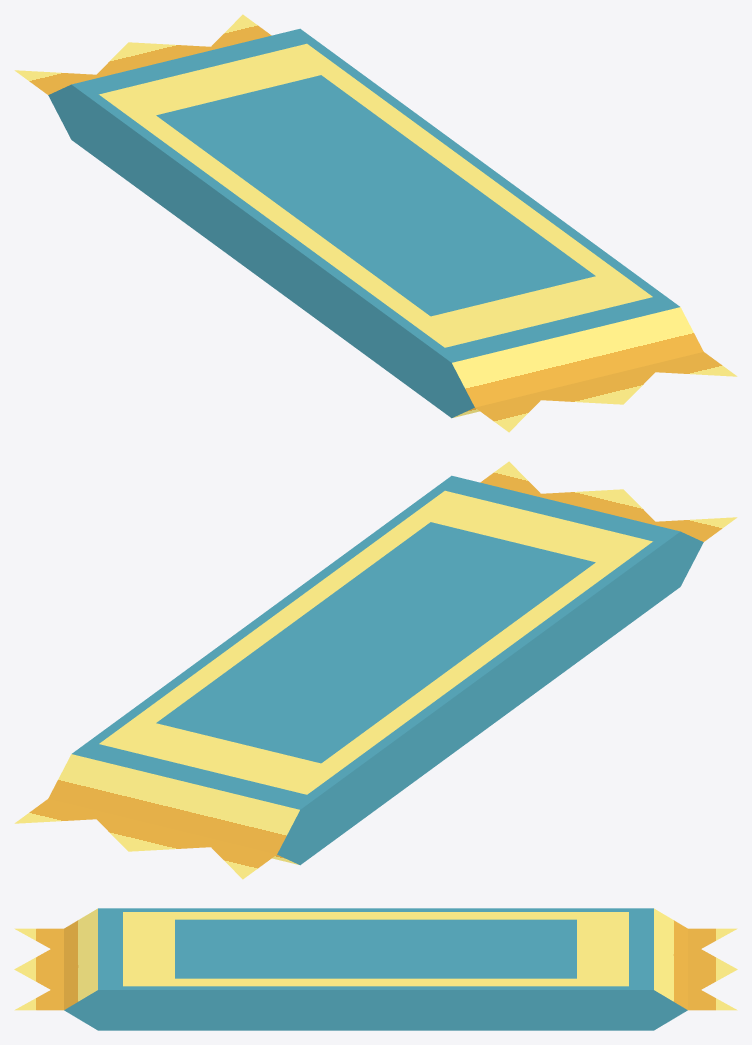
Rendered from choclate_bar.glb.
3 renders of one model, top to bottom at view 1: azimuth 30°, elevation 25°; view 2: azimuth 150°, elevation 25°; view 3: azimuth 270°, elevation 25°, orthographic. The views are drawn at different scales.
Visible parts, largest first — view 1: Cube.026; view 2: Cube.026; view 3: Cube.026.
Part boxes in pixels (x1,y1,x2,y2): Cube.026: (14, 14, 737, 432); Cube.026: (14, 461, 737, 879); Cube.026: (14, 908, 737, 1030).
Bounding box in the file's own units: 1.24 × 0.2864 × 4.64.
1 material, 1 textured.
